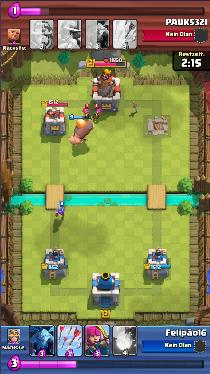ally_giant: (69, 119, 94, 145)
ally_musketeer: (54, 200, 66, 220)
enemy_archer: (93, 107, 102, 117), (82, 108, 89, 116)
